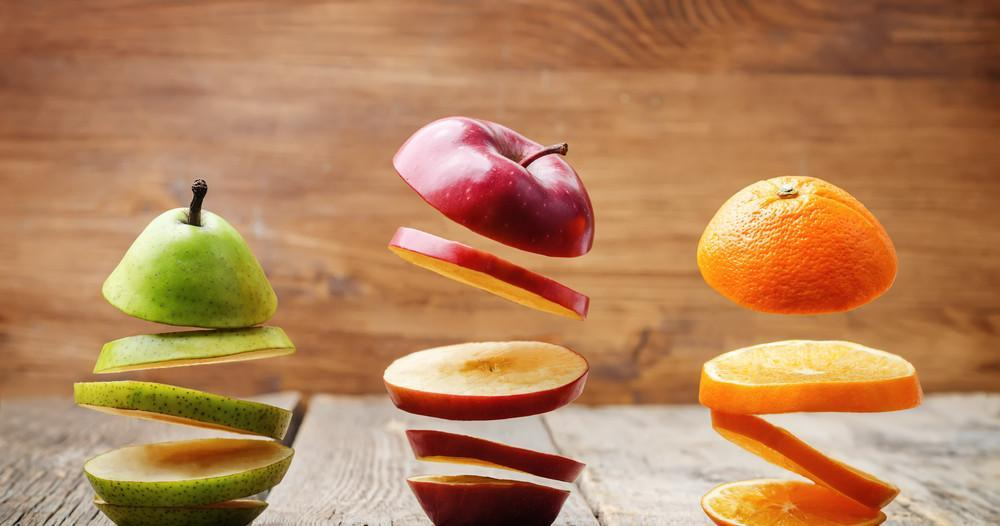apple: (383, 110, 589, 274)
